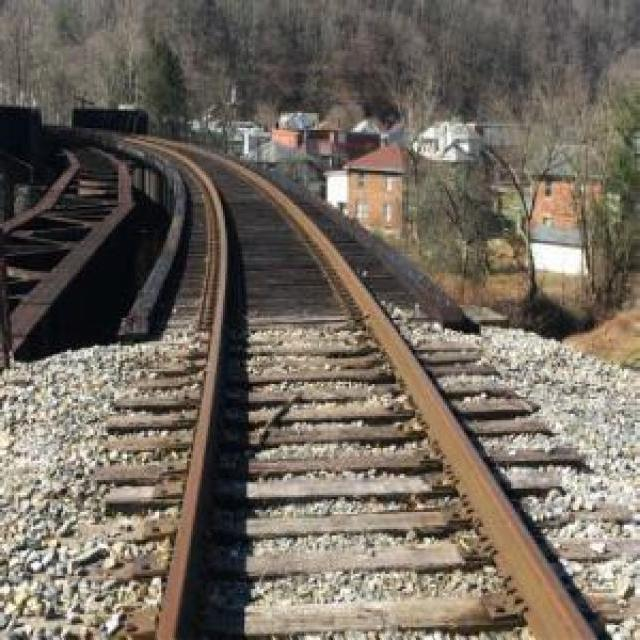rail: (11, 1, 640, 639)
